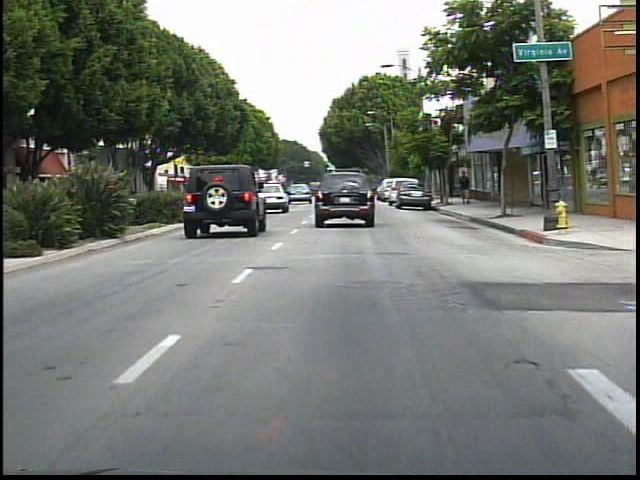person: (455, 168, 475, 209)
